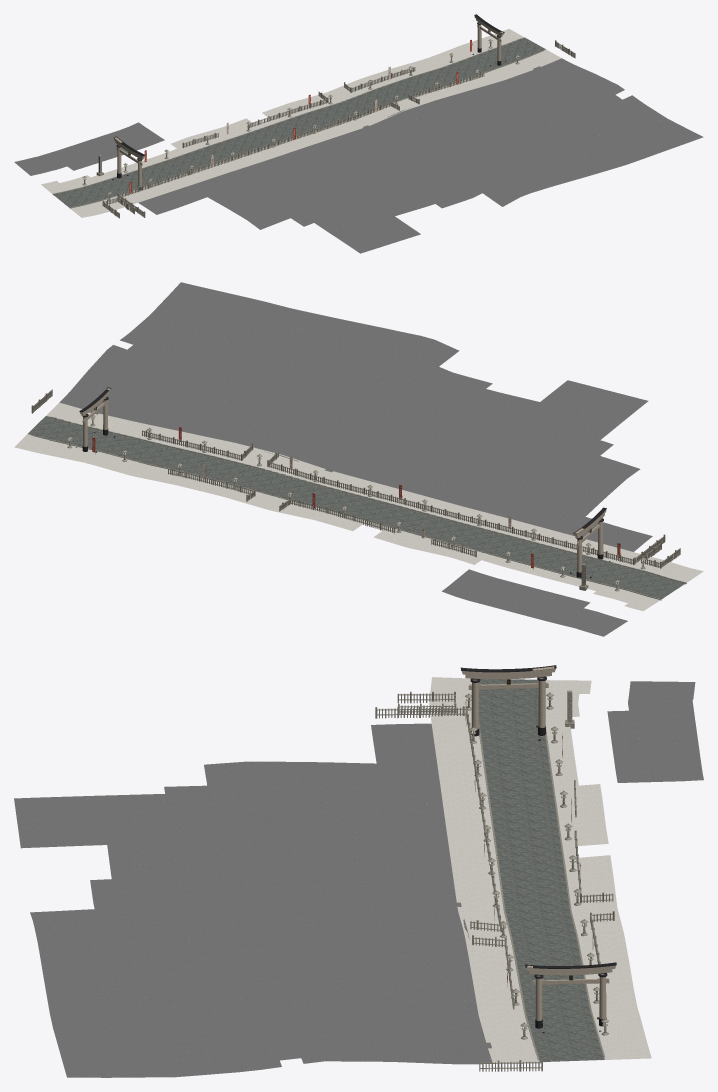
File: sando.glb
3 renders of one model, top to bottom at view 1: azimuth 30°, elevation 25°; view 2: azimuth 150°, elevation 25°; view 3: azimuth 270°, elevation 25°, orthographic. The views are drawn at different scales.
Visible parts, largest first — view 1: sando_ground_asphalt_c-1_-2, sando_ground_asphalt_c2_-2, sando_ground_asphalt_c0_-2, sando_ground_asphalt_c1_-2, sando_ground_asphalt_c-1_-3, sando_ground_asphalt_c1_-3, sando_ground_asphalt_c0_-3, sando_ground_asphalt_c2_-1, sando_ground_asphalt_c2_-3, sando_ground_asphalt_c1_-1, sando_ground_asphalt_c-2_-2, sando_ground_asphalt_c0_-1 (+36 smaller); view 2: sando_ground_asphalt_c-1_-2, sando_ground_asphalt_c1_-2, sando_ground_asphalt_c0_-2, sando_ground_asphalt_c2_-2, sando_ground_asphalt_c-1_-3, sando_ground_asphalt_c1_-3, sando_ground_asphalt_c2_-3, sando_ground_asphalt_c2_-1, sando_ground_asphalt_c0_-1, sando_ground_asphalt_c1_-1, sando_ground_asphalt_c0_-3, sando_ground_asphalt_c-2_-2 (+37 smaller); view 3: sando_ground_asphalt_c1_-2, sando_ground_asphalt_c0_-2, sando_ground_asphalt_c2_-2, sando_ground_asphalt_c1_-3, sando_ground_asphalt_c-1_-2, sando_ground_asphalt_c-1_-3, sando_ground_asphalt_c2_-3, sando_ground_asphalt_c2_-1, sando_ground_asphalt_c1_-1, sando_ground_asphalt_c0_-1, sando_ground_asphalt_c-2_-2, sando_ground_asphalt_c0_-3 (+37 smaller).
Part boxes in pixels (left/top/right/bottom): sando_ground_asphalt_c-1_-2: left=265, top=155, right=398, bottom=218; sando_ground_asphalt_c2_-2: left=522, top=78, right=650, bottom=144; sando_ground_asphalt_c0_-2: left=352, top=130, right=481, bottom=193; sando_ground_asphalt_c1_-2: left=436, top=106, right=568, bottom=163; sando_ground_asphalt_c-1_-3: left=314, top=191, right=420, bottom=253; sando_ground_asphalt_c1_-3: left=482, top=141, right=606, bottom=196; sando_ground_asphalt_c0_-3: left=395, top=164, right=523, bottom=209; sando_ground_asphalt_c2_-1: left=488, top=58, right=603, bottom=110; sando_ground_asphalt_c2_-3: left=573, top=118, right=686, bottom=170; sando_ground_asphalt_c1_-1: left=402, top=84, right=514, bottom=129; sando_ground_asphalt_c-2_-2: left=214, top=184, right=310, bottom=229; sando_ground_asphalt_c0_-1: left=321, top=111, right=435, bottom=156; sando_ground_asphalt_c-1_-2: left=417, top=412, right=592, bottom=491; sando_ground_asphalt_c1_-2: left=204, top=348, right=375, bottom=423; sando_ground_asphalt_c0_-2: left=311, top=376, right=478, bottom=456; sando_ground_asphalt_c2_-2: left=95, top=321, right=276, bottom=394; sando_ground_asphalt_c-1_-3: left=479, top=380, right=648, bottom=442; sando_ground_asphalt_c1_-3: left=264, top=314, right=433, bottom=376; sando_ground_asphalt_c2_-3: left=158, top=288, right=316, bottom=345; sando_ground_asphalt_c2_-1: left=59, top=361, right=209, bottom=426; sando_ground_asphalt_c0_-1: left=279, top=423, right=423, bottom=486; sando_ground_asphalt_c1_-1: left=161, top=397, right=310, bottom=454; sando_ground_asphalt_c0_-3: left=376, top=339, right=511, bottom=412; sando_ground_asphalt_c-2_-2: left=525, top=446, right=640, bottom=510; sando_ground_asphalt_c1_-2: left=171, top=920, right=371, bottom=999; sando_ground_asphalt_c0_-2: left=176, top=855, right=370, bottom=929; sando_ground_asphalt_c2_-2: left=171, top=991, right=366, bottom=1068; sando_ground_asphalt_c1_-3: left=32, top=920, right=196, bottom=1000; sando_ground_asphalt_c-1_-2: left=170, top=793, right=368, bottom=865; sando_ground_asphalt_c-1_-3: left=14, top=794, right=194, bottom=869; sando_ground_asphalt_c2_-3: left=47, top=992, right=193, bottom=1070; sando_ground_asphalt_c2_-1: left=346, top=998, right=492, bottom=1064; sando_ground_asphalt_c1_-1: left=344, top=929, right=476, bottom=1006; sando_ground_asphalt_c0_-1: left=349, top=859, right=466, bottom=929; sando_ground_asphalt_c-2_-2: left=185, top=761, right=360, bottom=803; sando_ground_asphalt_c0_-3: left=30, top=860, right=197, bottom=926.
Bounding box in the file's own units: 147 × 15.7 × 95.03.
10 materials, 7 textured.
